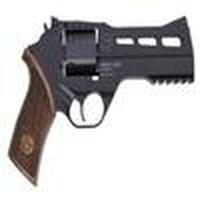gun: (7, 17, 186, 182)
